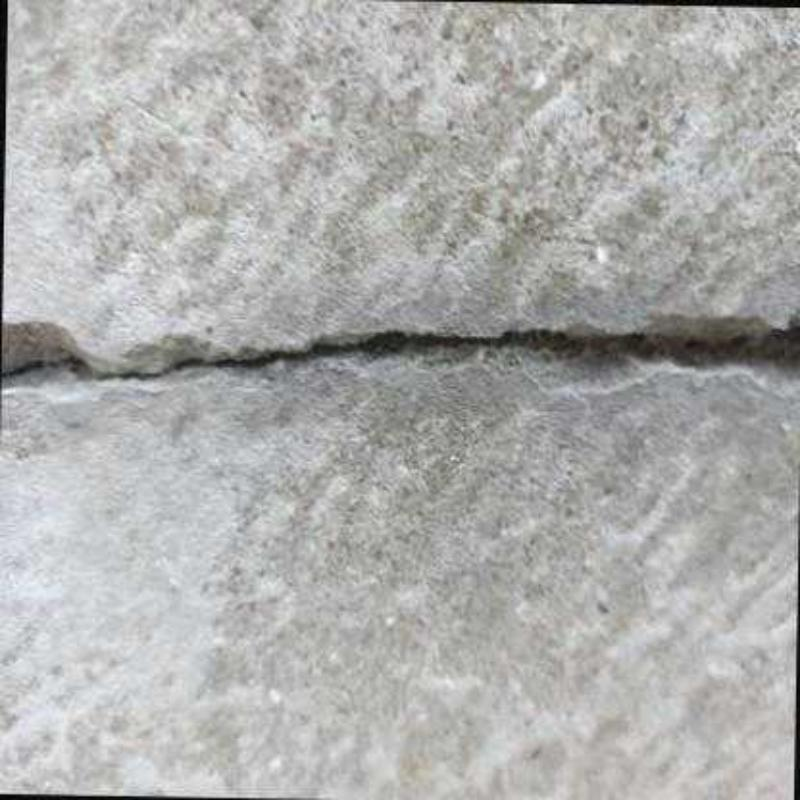pothole: (0, 305, 800, 406)
